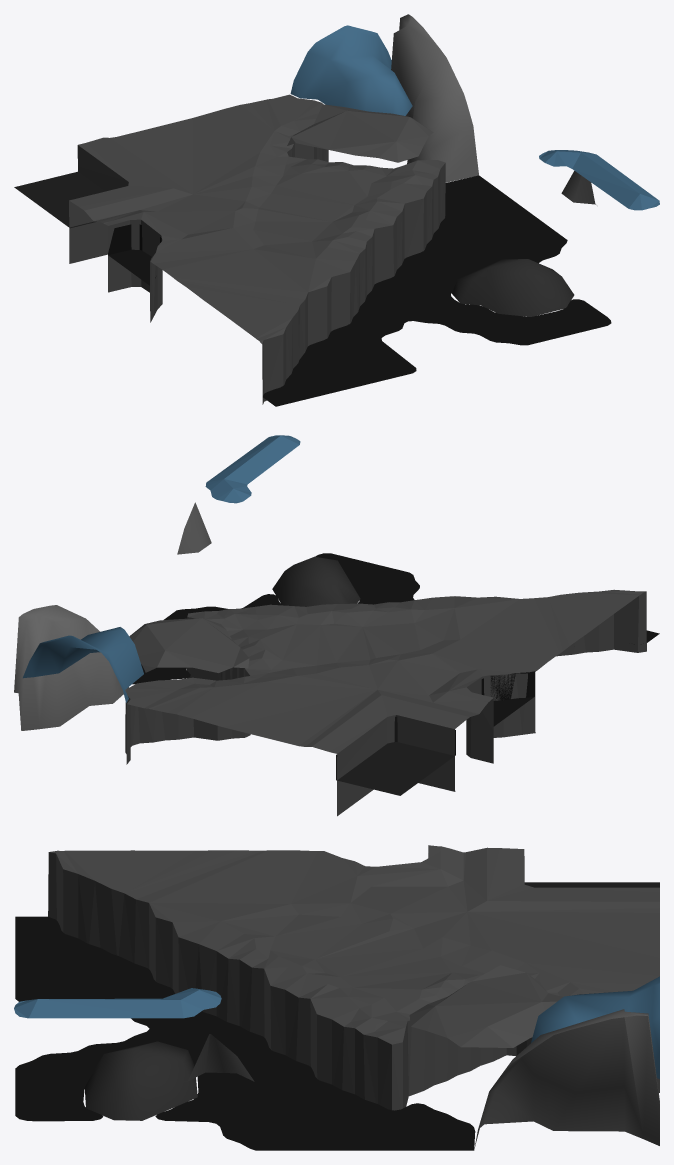
Rendered from newsho-81.glb.
The picture shows the model from 3 angles, top to bottom: view 1: azimuth 30°, elevation 25°; view 2: azimuth 150°, elevation 25°; view 3: azimuth 270°, elevation 25°; orthographic projection. The views are drawn at different scales.
Visible parts, largest first — view 1: newsho-81; view 2: newsho-81; view 3: newsho-81.
Boxes of the visible parts, bbox=[...] form: newsho-81: bbox=[14, 14, 659, 406]; newsho-81: bbox=[14, 435, 659, 816]; newsho-81: bbox=[14, 845, 659, 1150].
Size of the model in its own units: 2 by 0.607 by 2.33.
